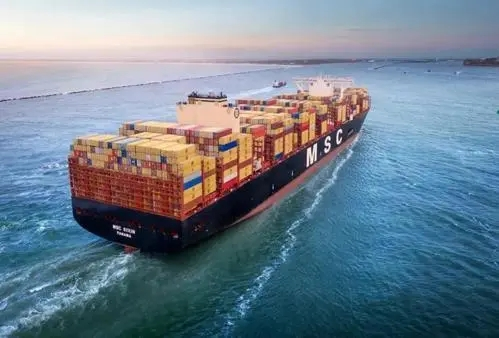Cargoship: (62, 72, 372, 247)
